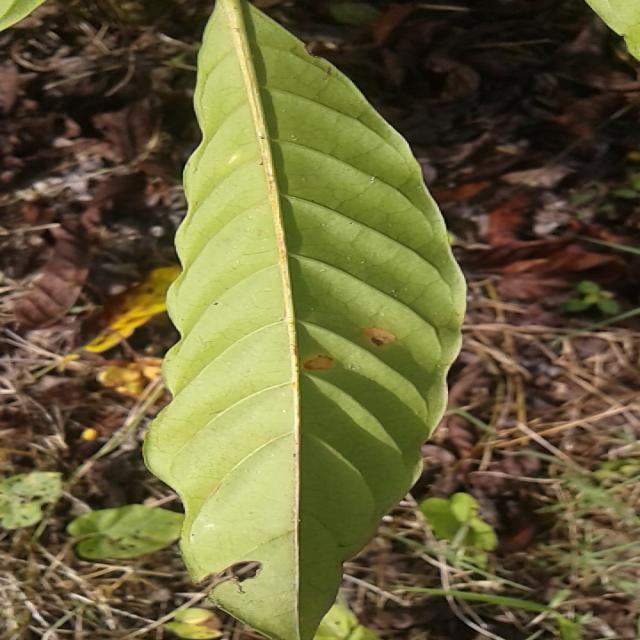Enfermedad-Roya: (142, 0, 468, 640)
